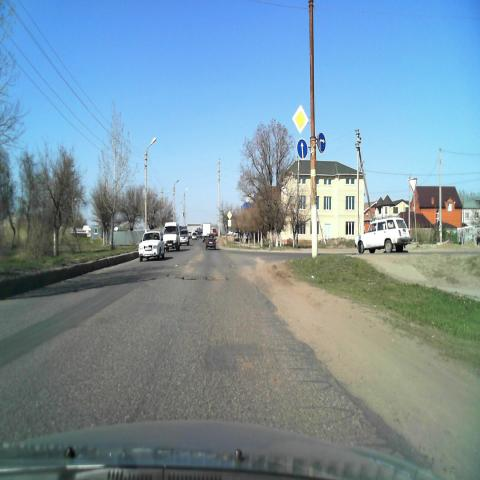4_1_2: (316, 130, 326, 154)
